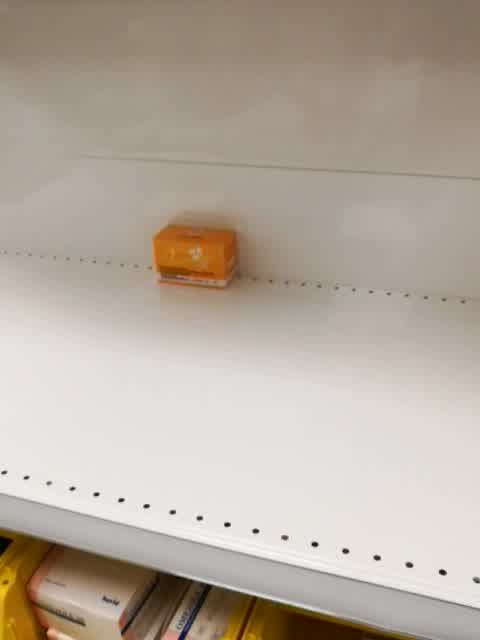jasminetea: (151, 223, 237, 291)
